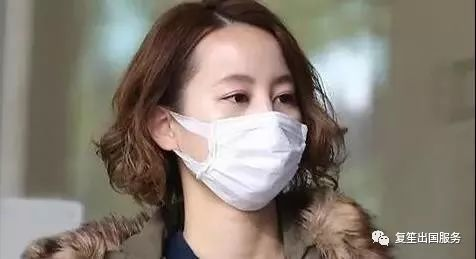mask: (194, 118, 309, 210)
